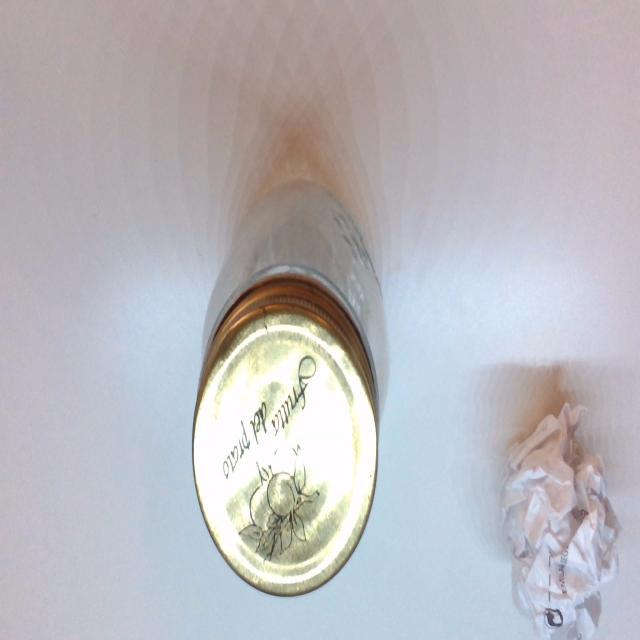Paper: (507, 403, 617, 640)
